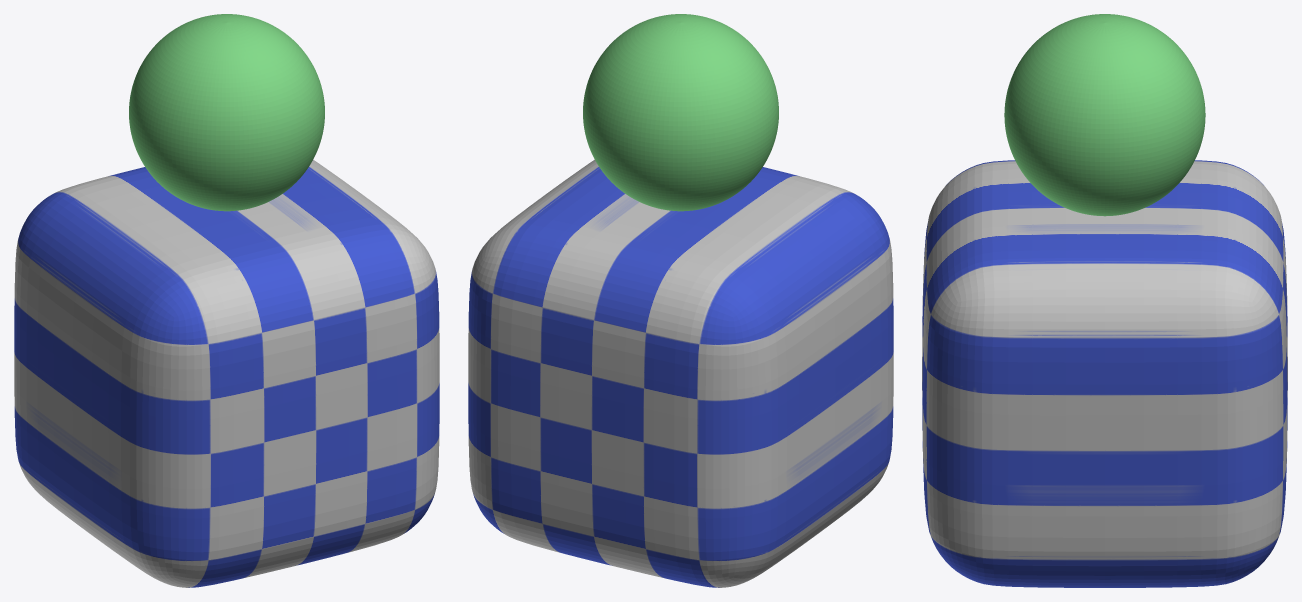
File: BOD3_BMC0_BCC13_BPT4_FRC0_HEA0_HMC13_HCC0_HPT0_ELT0_ERT0_ELL0_ERL0_AP0_AAL0_AAR0_BEK0.fbx
3 views of the same model, side by side, from view 1: azimuth 30°, elevation 25°; view 2: azimuth 150°, elevation 25°; view 3: azimuth 270°, elevation 25° (orthographic). The views are drawn at different scales.
Visible parts, largest first — view 1: Body, Head; view 2: Body, Head; view 3: Body, Head.
Part boxes in pixels (x1,y1,x2,y2): Body: [14, 159, 439, 587]; Head: [129, 14, 324, 211]; Body: [468, 159, 893, 587]; Head: [583, 14, 778, 211]; Body: [922, 160, 1287, 587]; Head: [1004, 14, 1205, 216].
Size of the model in its own units: 89.79 by 140 by 89.79.
Materials: 2 (2 with a texture image).
